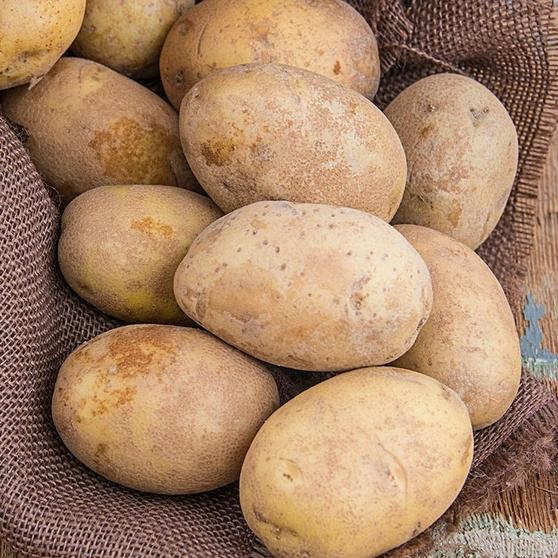potato: (175, 197, 433, 369), (47, 320, 278, 495), (173, 65, 408, 220)
